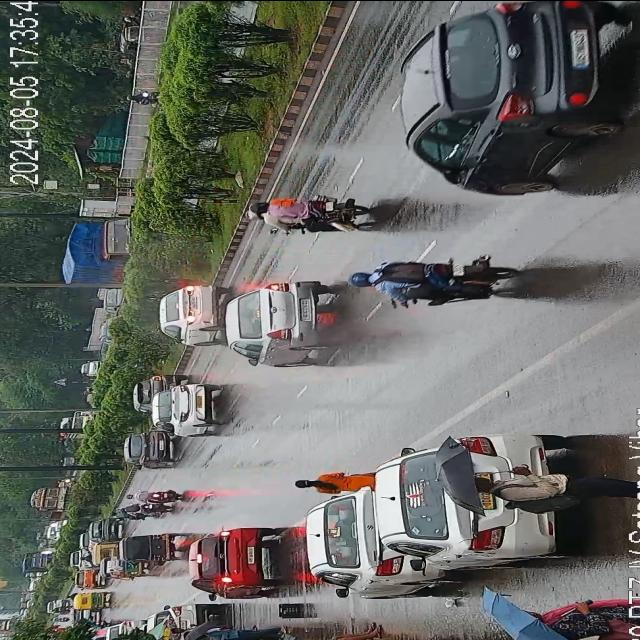2-wheelers: (346, 248, 507, 306), (243, 182, 373, 239), (117, 482, 181, 513), (124, 89, 162, 105)
auto: (119, 529, 179, 565), (72, 591, 108, 609)
car: (400, 0, 616, 186), (388, 433, 546, 568), (308, 490, 422, 596), (225, 270, 334, 369), (187, 524, 269, 594), (162, 278, 226, 348), (162, 377, 222, 441), (132, 370, 170, 417), (139, 421, 176, 467), (90, 508, 124, 542)
pedestrian: (463, 458, 619, 509), (292, 465, 372, 491), (298, 624, 379, 640)
truck: (61, 216, 145, 286), (519, 603, 639, 640), (196, 625, 286, 640), (32, 486, 72, 518), (58, 409, 96, 438), (21, 550, 54, 571), (79, 359, 102, 377)
